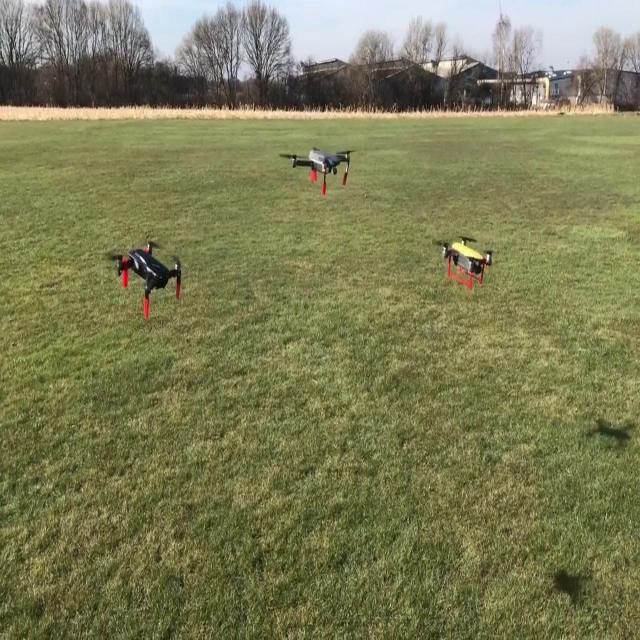UAV: (106, 240, 182, 319), (278, 146, 356, 194), (432, 236, 494, 290)
